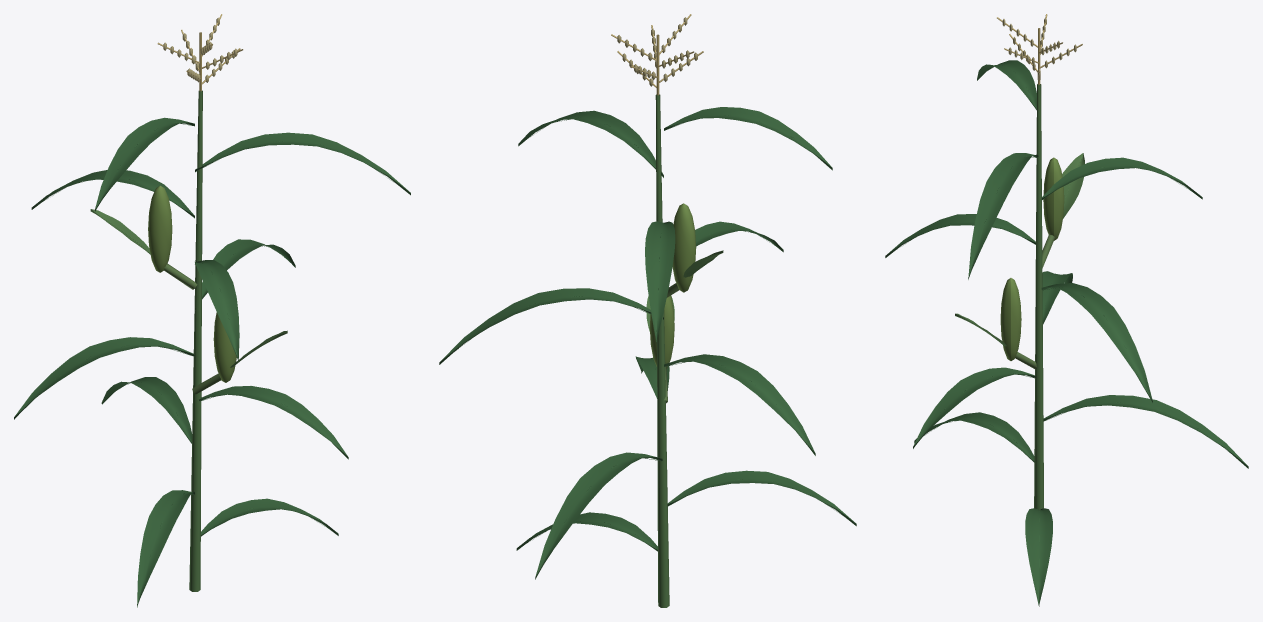
The model's file is maiz_duro.glb.
The picture shows the model from 3 angles, left to right: view 1: azimuth 30°, elevation 25°; view 2: azimuth 150°, elevation 25°; view 3: azimuth 270°, elevation 25°; orthographic projection. The views are drawn at different scales.
Parts seen in each view (by area): view 1: maiz_duro; view 2: maiz_duro; view 3: maiz_duro.
Part boxes in pixels (x1,y1,x2,y2): maiz_duro: [14, 14, 410, 607]; maiz_duro: [439, 14, 856, 607]; maiz_duro: [885, 14, 1248, 606].
Size of the model in its own units: 1.48 by 2.32 by 1.42.
